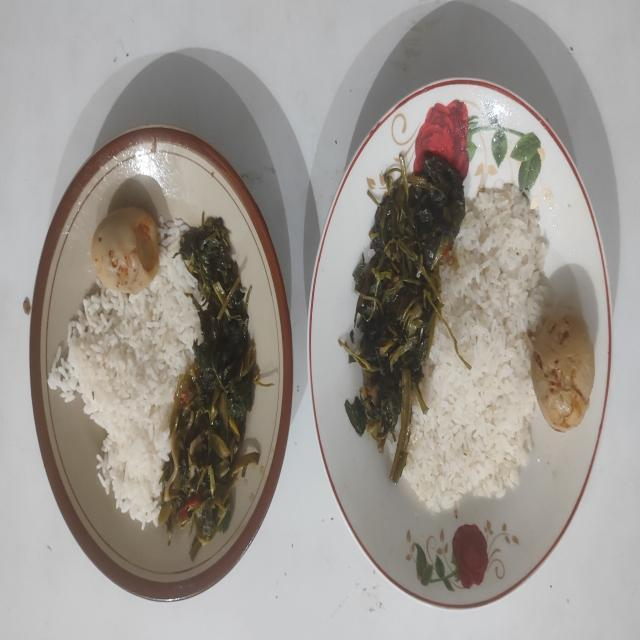nasi_putih: (48, 217, 202, 528), (404, 187, 548, 511)
tumis_kangkung: (339, 152, 465, 484), (158, 212, 274, 560)
